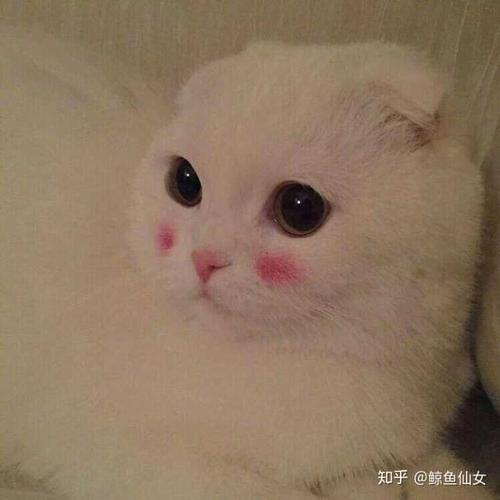cat: (120, 45, 481, 381)
